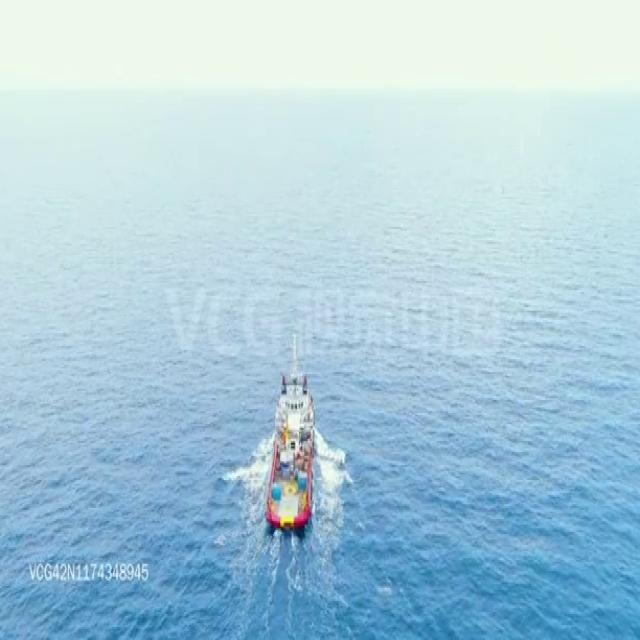fishing boat: (260, 326, 312, 529)
